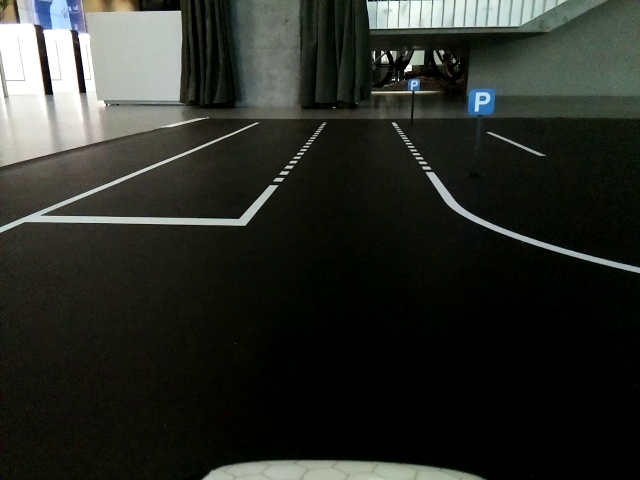park: (468, 89, 494, 116), (408, 79, 420, 92)
